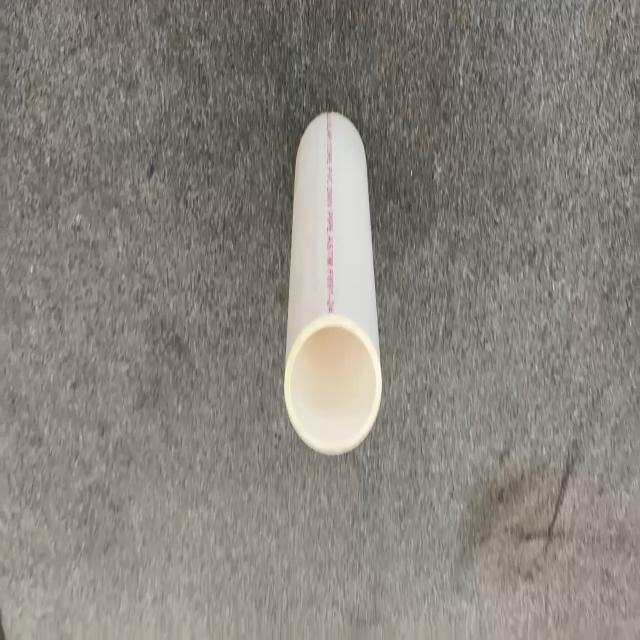coral: (283, 108, 383, 456)
